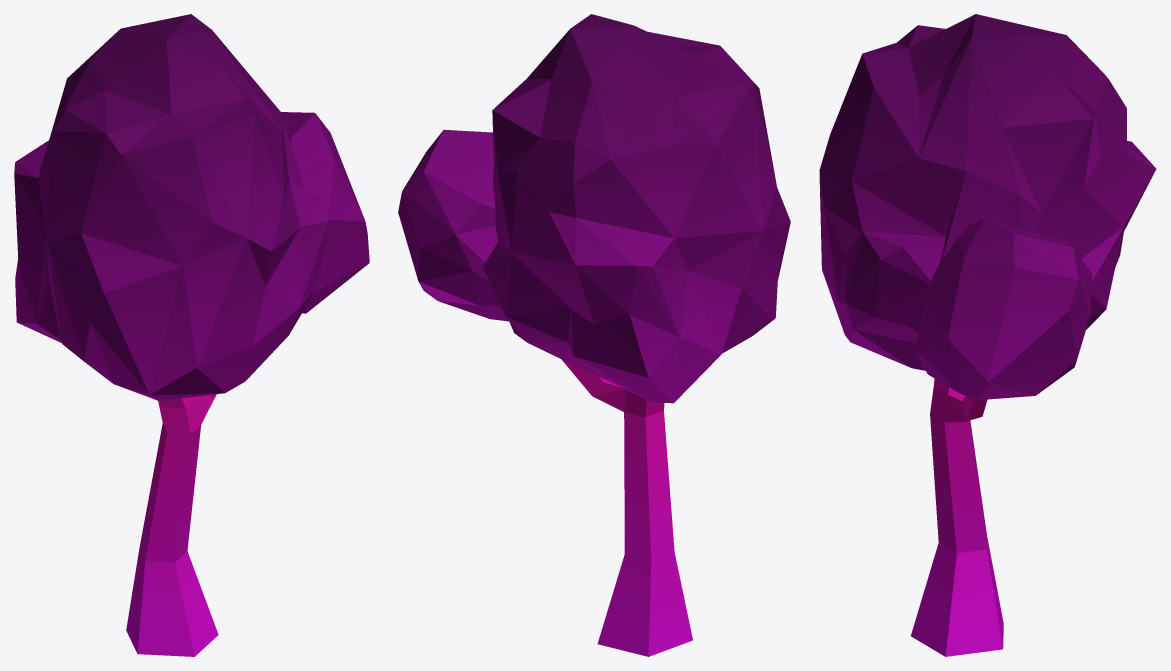
Rendered from SM_Generic_Tree_04.fbx.
The picture shows the model from 3 angles, left to right: view 1: azimuth 30°, elevation 25°; view 2: azimuth 150°, elevation 25°; view 3: azimuth 270°, elevation 25°; orthographic projection. The views are drawn at different scales.
Visible parts, largest first — view 1: SM_Generic_Tree_04; view 2: SM_Generic_Tree_04; view 3: SM_Generic_Tree_04.
Boxes of the visible parts, box(x1,y1,x2,y2) form: SM_Generic_Tree_04: box(14, 14, 369, 656); SM_Generic_Tree_04: box(398, 14, 790, 656); SM_Generic_Tree_04: box(819, 14, 1156, 656).
Size of the model in its own units: 182 by 322 by 154.
